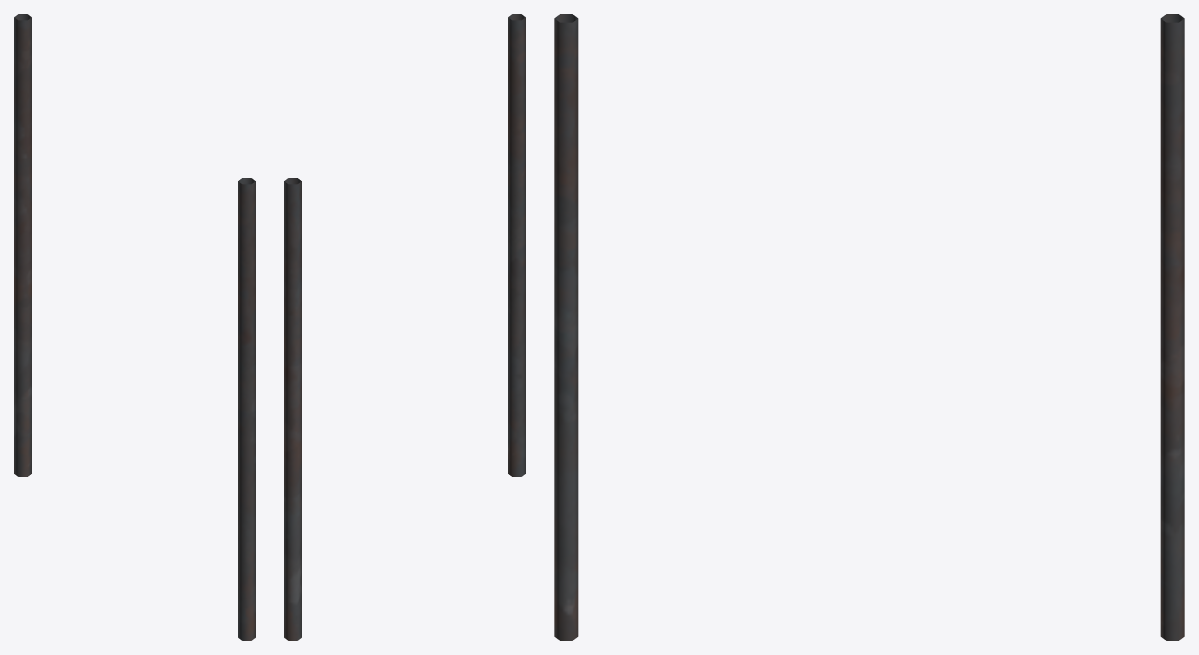
Rendered from Vent_Bar_A.fbx.
The picture shows the model from 3 angles, left to right: view 1: azimuth 30°, elevation 25°; view 2: azimuth 150°, elevation 25°; view 3: azimuth 270°, elevation 25°; orthographic projection. The views are drawn at different scales.
Parts seen in each view (by area): view 1: Cylinder.003; view 2: Cylinder.003; view 3: Cylinder.003.
Boxes of the visible parts, box(x1,y1,x2,y2) form: Cylinder.003: box(14, 14, 255, 640); Cylinder.003: box(284, 14, 525, 640); Cylinder.003: box(554, 14, 1184, 640).
Bounding box in the file's own units: 6.11 × 200 × 185.
